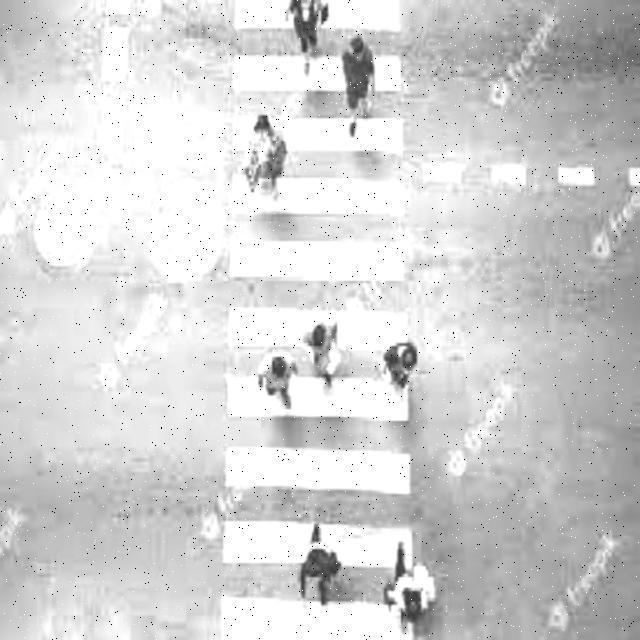crosswalk: (217, 0, 441, 637)
